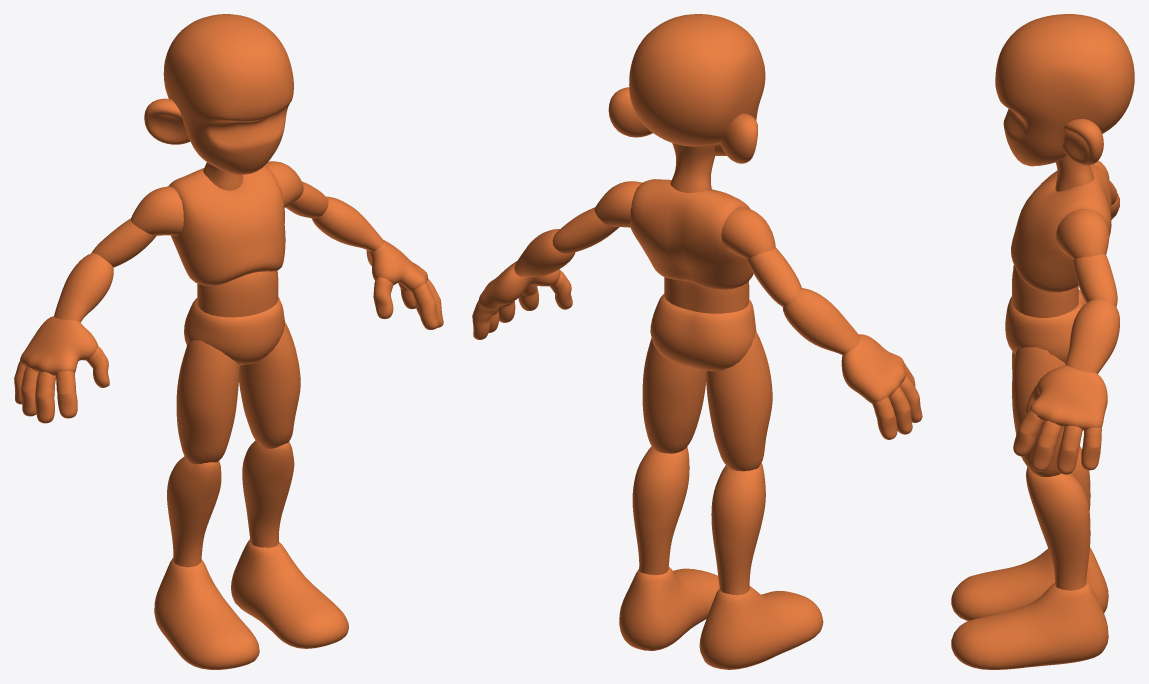
File: player_base_placeholder.glb
The picture shows the model from 3 angles, left to right: view 1: azimuth 30°, elevation 25°; view 2: azimuth 150°, elevation 25°; view 3: azimuth 270°, elevation 25°; orthographic projection. The views are drawn at different scales.
Visible parts, largest first — view 1: Male - Head, Male - Feet, Male - Thighs, Male - Chest, Male - Shin, Male - Palm, Male - Forearm, Male - Hips, Male - Shoulder, Male - Belly, Male - UpperArm, Male Finger - Index (+5 smaller); view 2: Male - Head, Male - Feet, Male - Thighs, Male - Shin, Male - Chest, Male - Hips, Male - Palm, Male - Forearm, Male - UpperArm, Male - Shoulder, Male - Ear, Male - Belly (+4 smaller); view 3: Male - Head, Male - Feet, Male - Chest, Male - Shin, Male - Palm, Male - Forearm, Male - Hips, Male - Thighs, Male - Shoulder, Male - Belly, Male - UpperArm, Male - Ear (+5 smaller).
Part boxes in pixels (x1=…): Male - Head: x1=163, y1=14, x2=293, y2=174; Male - Feet: x1=154, y1=539, x2=348, y2=669; Male - Thighs: x1=176, y1=322, x2=300, y2=464; Male - Chest: x1=168, y1=165, x2=285, y2=285; Male - Shin: x1=167, y1=440, x2=294, y2=567; Male - Palm: x1=20, y1=240, x2=427, y2=375; Male - Forearm: x1=54, y1=196, x2=384, y2=322; Male - Hips: x1=184, y1=297, x2=284, y2=365; Male - Shoulder: x1=131, y1=161, x2=303, y2=235; Male - Belly: x1=197, y1=270, x2=278, y2=317; Male - UpperArm: x1=91, y1=181, x2=328, y2=267; Male Finger - Index: x1=56, y1=282, x2=438, y2=418; Male - Head: x1=629, y1=14, x2=765, y2=155; Male - Feet: x1=619, y1=567, x2=823, y2=669; Male - Thighs: x1=642, y1=332, x2=772, y2=471; Male - Shin: x1=632, y1=446, x2=765, y2=595; Male - Chest: x1=629, y1=179, x2=753, y2=289; Male - Hips: x1=650, y1=294, x2=756, y2=371; Male - Palm: x1=478, y1=261, x2=905, y2=403; Male - Forearm: x1=514, y1=229, x2=860, y2=354; Male - UpperArm: x1=552, y1=207, x2=801, y2=306; Male - Shoulder: x1=594, y1=181, x2=775, y2=259; Male - Ear: x1=608, y1=87, x2=757, y2=163; Male - Belly: x1=664, y1=277, x2=749, y2=313; Male - Head: x1=995, y1=14, x2=1134, y2=166; Male - Feet: x1=951, y1=547, x2=1108, y2=669; Male - Chest: x1=1011, y1=164, x2=1111, y2=292; Male - Shin: x1=1026, y1=446, x2=1090, y2=590; Male - Palm: x1=1030, y1=365, x2=1107, y2=430; Male - Forearm: x1=1065, y1=193, x2=1119, y2=373; Male - Hips: x1=1005, y1=289, x2=1086, y2=363; Male - Thighs: x1=1012, y1=347, x2=1065, y2=477; Male - Shoulder: x1=1056, y1=160, x2=1109, y2=259; Male - Belly: x1=1012, y1=265, x2=1078, y2=317; Male - UpperArm: x1=1073, y1=180, x2=1117, y2=306; Male - Ear: x1=1062, y1=119, x2=1103, y2=165.
Size of the model in its own units: 1.28 by 1.79 by 0.4868.
